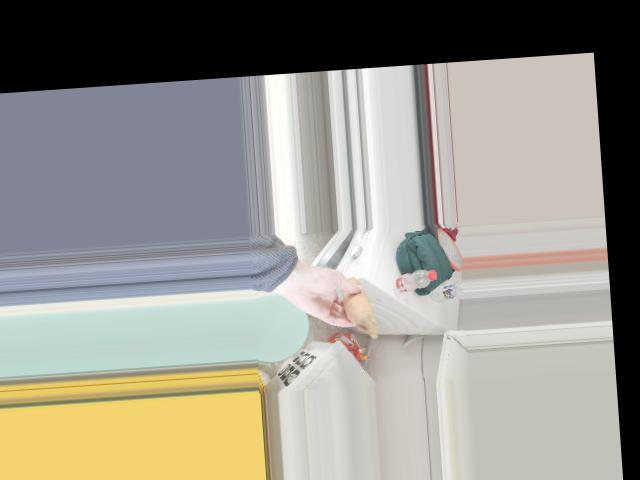sweet_potato: (343, 282, 373, 323)
